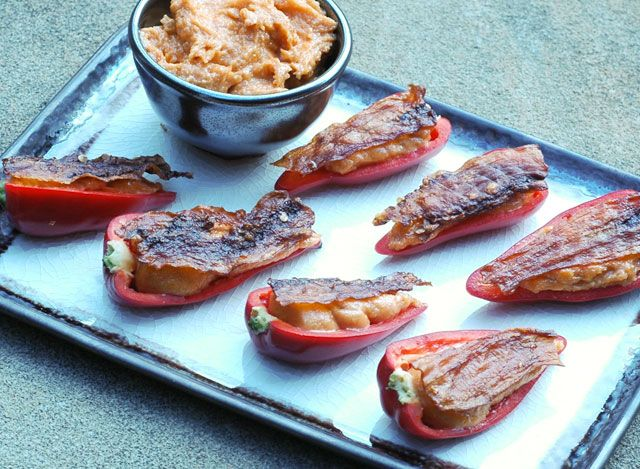bacon: (362, 137, 550, 246), (471, 195, 639, 303), (270, 82, 430, 189)
